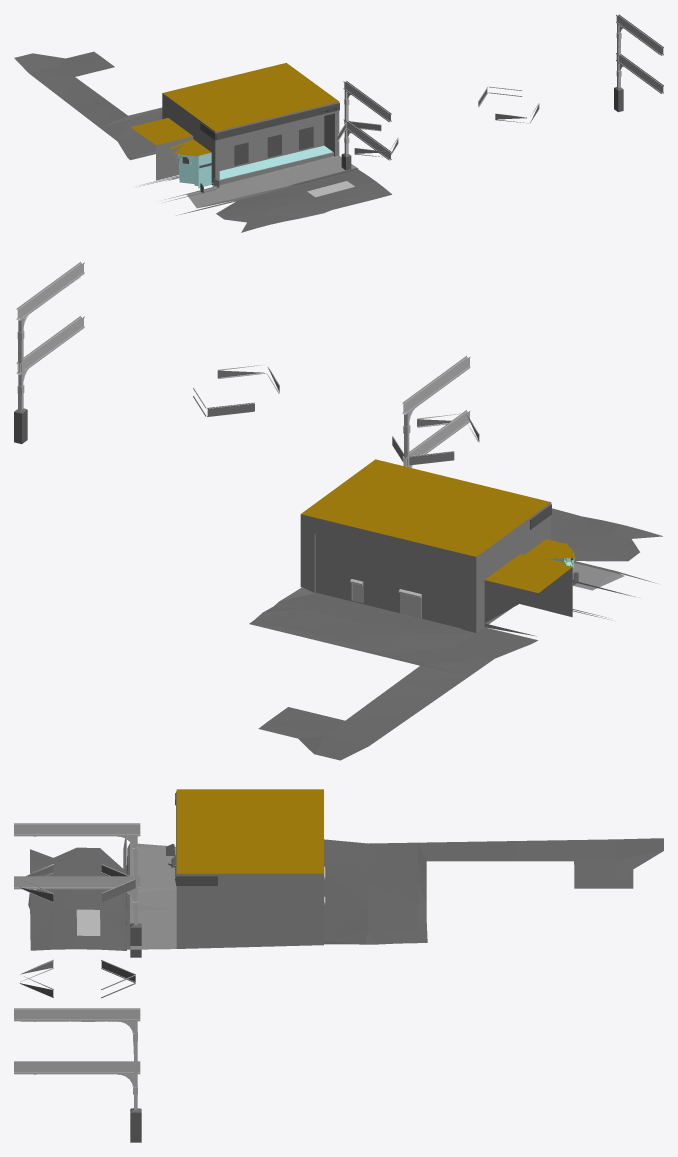
Rendered from brook_s_2.FBX.
The picture shows the model from 3 angles, top to bottom: view 1: azimuth 30°, elevation 25°; view 2: azimuth 150°, elevation 25°; view 3: azimuth 270°, elevation 25°; orthographic projection. The views are drawn at different scales.
Visible parts, largest first — view 1: unnamed; view 2: unnamed; view 3: unnamed.
Boxes of the visible parts, x1=… form: unnamed: x1=14, y1=14, x2=663, y2=232; unnamed: x1=14, y1=261, x2=662, y2=760; unnamed: x1=14, y1=789, x2=663, y2=1142.
Bounding box in the file's own units: 88.31 × 17.45 × 78.07.
